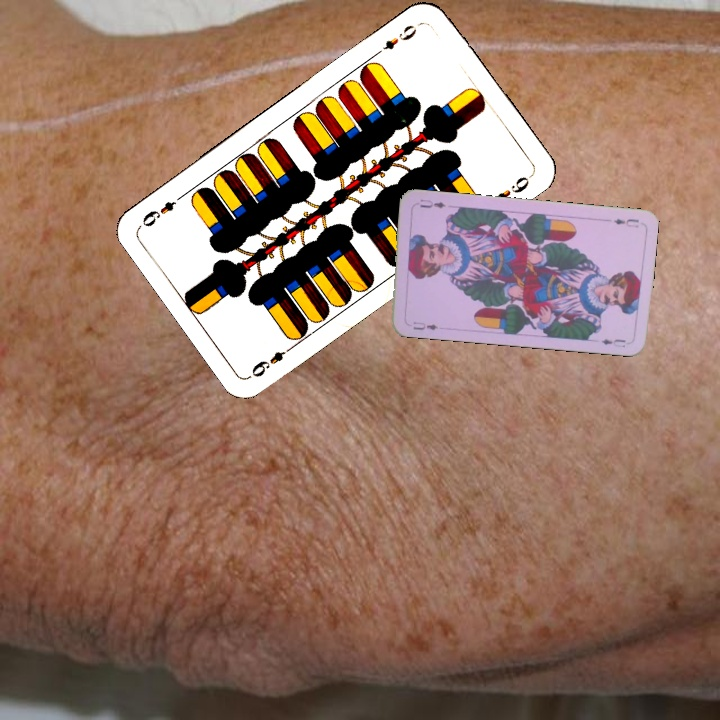E9: (247, 340, 298, 380), (372, 20, 419, 58)
EU: (610, 214, 641, 230), (409, 318, 441, 333)
